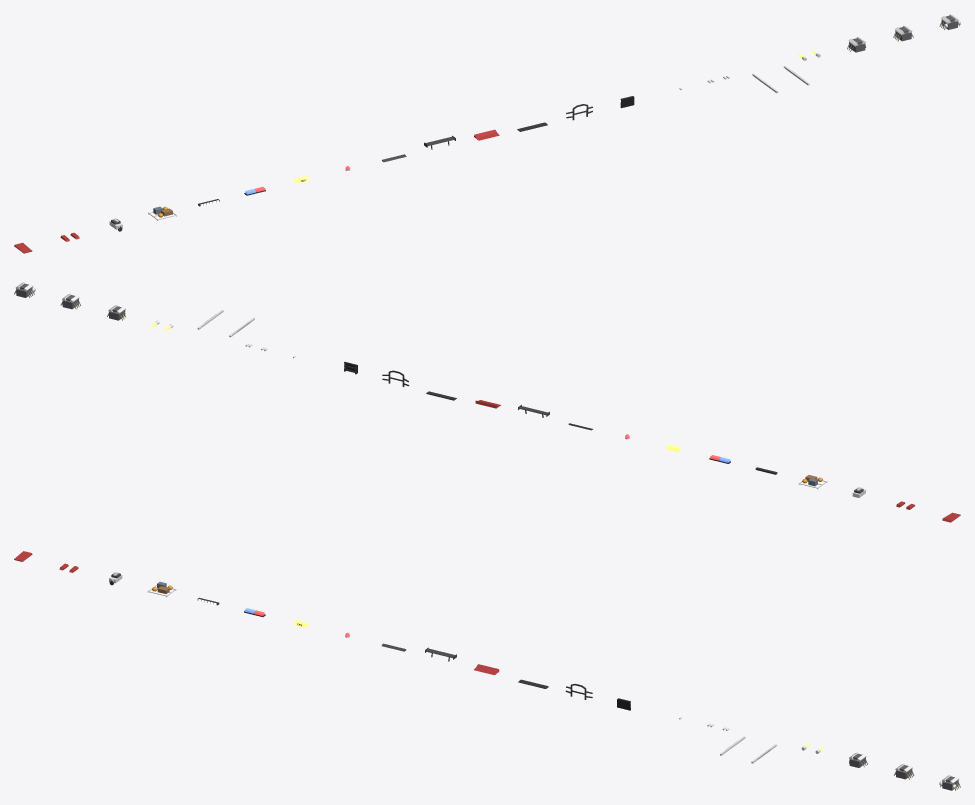
File: parts.glb
3 views of the same model, one above another, from view 1: azimuth 30°, elevation 25°; view 2: azimuth 150°, elevation 25°; view 3: azimuth 330°, elevation 25° (orthographic).
Size of the model in its own units: 60.82 by 0.836 by 4.
